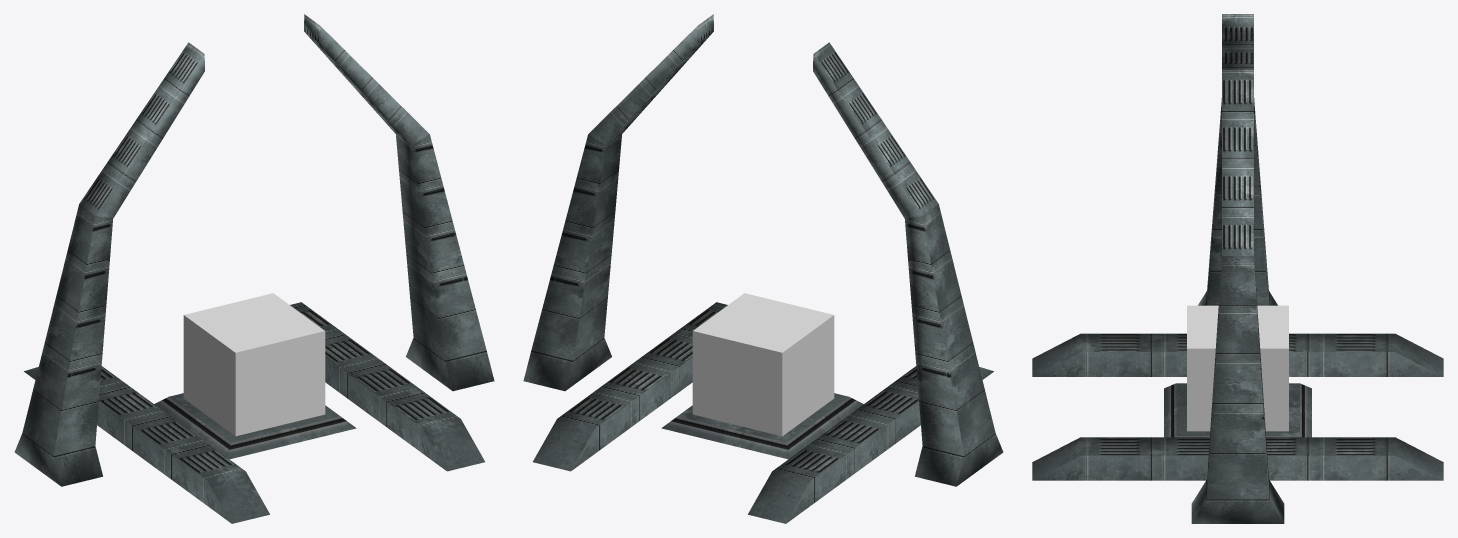
The model's file is pbscen11.FBX.
3 renders of one model, left to right at view 1: azimuth 30°, elevation 25°; view 2: azimuth 150°, elevation 25°; view 3: azimuth 270°, elevation 25°, orthographic.
Parts seen in each view (by area): view 1: pbscen11, hp_dummyrroot; view 2: pbscen11, hp_dummyrroot; view 3: pbscen11, hp_dummyrroot.
Boxes of the visible parts, left/top/right/bottom form: pbscen11: left=14, top=14, right=494, bottom=523; hp_dummyrroot: left=183, top=293, right=325, bottom=436; pbscen11: left=523, top=14, right=1003, bottom=523; hp_dummyrroot: left=692, top=293, right=834, bottom=436; pbscen11: left=1032, top=14, right=1443, bottom=523; hp_dummyrroot: left=1187, top=305, right=1288, bottom=431.
Size of the model in its own units: 4.83 by 4.03 by 4.08.
